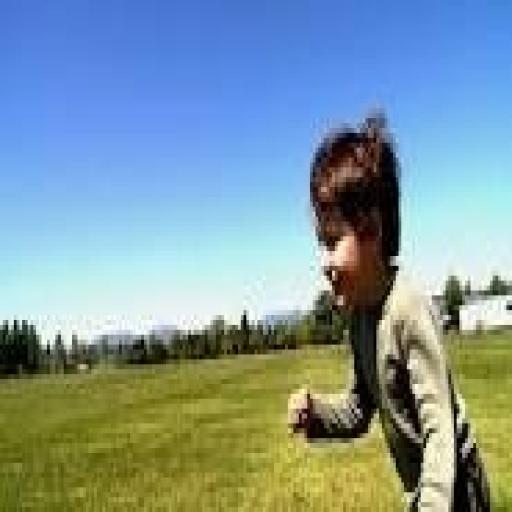running: (285, 108, 493, 507)
